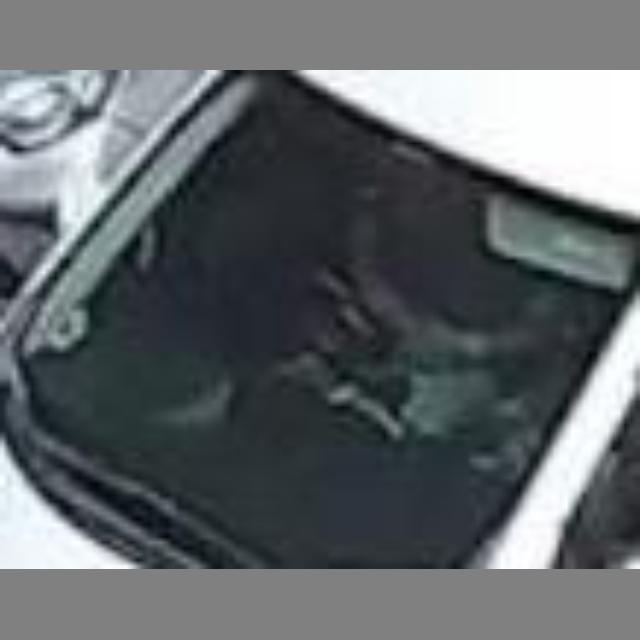tidak-pakai: (317, 135, 534, 387)
